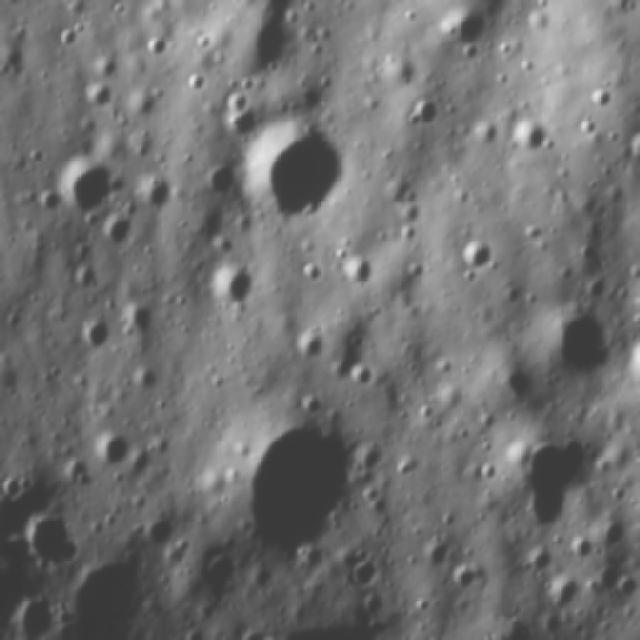crater: (227, 388, 368, 562), (240, 114, 342, 232), (499, 421, 615, 516), (52, 558, 160, 640), (542, 298, 626, 385), (53, 153, 122, 222), (17, 512, 77, 576), (88, 421, 150, 474), (207, 265, 253, 320), (462, 229, 504, 277), (508, 115, 549, 160), (346, 243, 382, 294), (133, 174, 179, 212), (72, 320, 110, 363), (201, 165, 237, 203), (292, 324, 325, 364), (128, 302, 162, 340)
